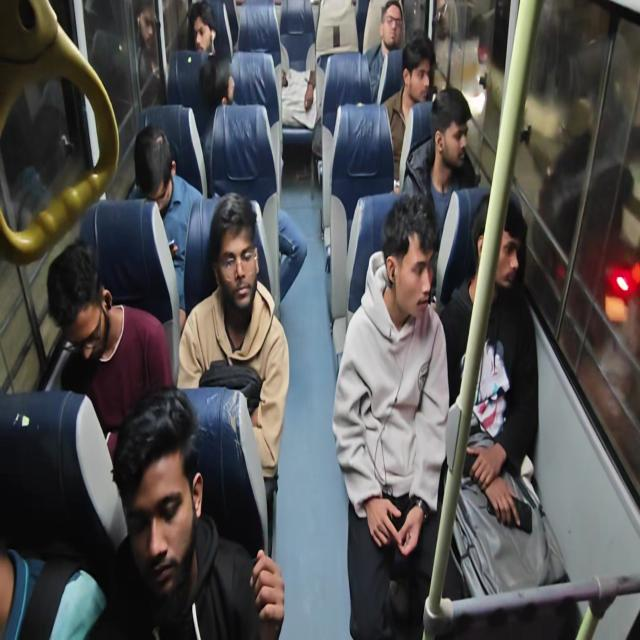person: (108, 456, 248, 640), (41, 238, 111, 450), (469, 211, 544, 363), (378, 194, 459, 330), (0, 448, 54, 640), (108, 130, 183, 232), (260, 30, 322, 133), (220, 175, 259, 326), (391, 49, 456, 112), (192, 5, 237, 95), (423, 88, 467, 165), (373, 0, 420, 56), (205, 54, 232, 131)
